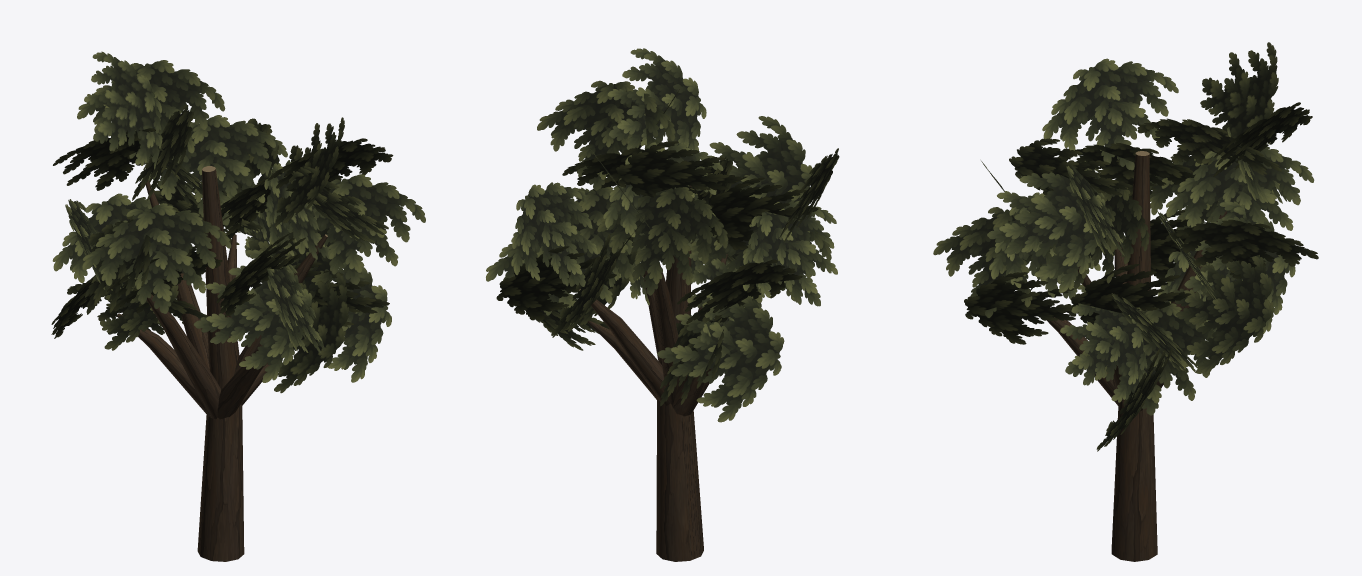
3 views of the same model, side by side, from view 1: azimuth 30°, elevation 25°; view 2: azimuth 150°, elevation 25°; view 3: azimuth 270°, elevation 25° (orthographic). The views are drawn at different scales.
Visible parts, largest first — view 1: Bark branch; view 2: Bark branch; view 3: Bark branch.
Boxes of the visible parts, left/top/right/bottom form: Bark branch: left=51, top=51, right=425, bottom=561; Bark branch: left=486, top=48, right=839, bottom=561; Bark branch: left=933, top=42, right=1318, bottom=561.
Bounding box in the file's own units: 5.38 × 6.72 × 5.51.
3 materials, 2 textured.
